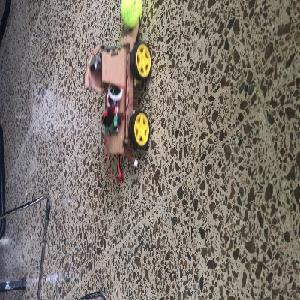Ball: (118, 2, 143, 27)
Robot: (86, 16, 151, 156)
